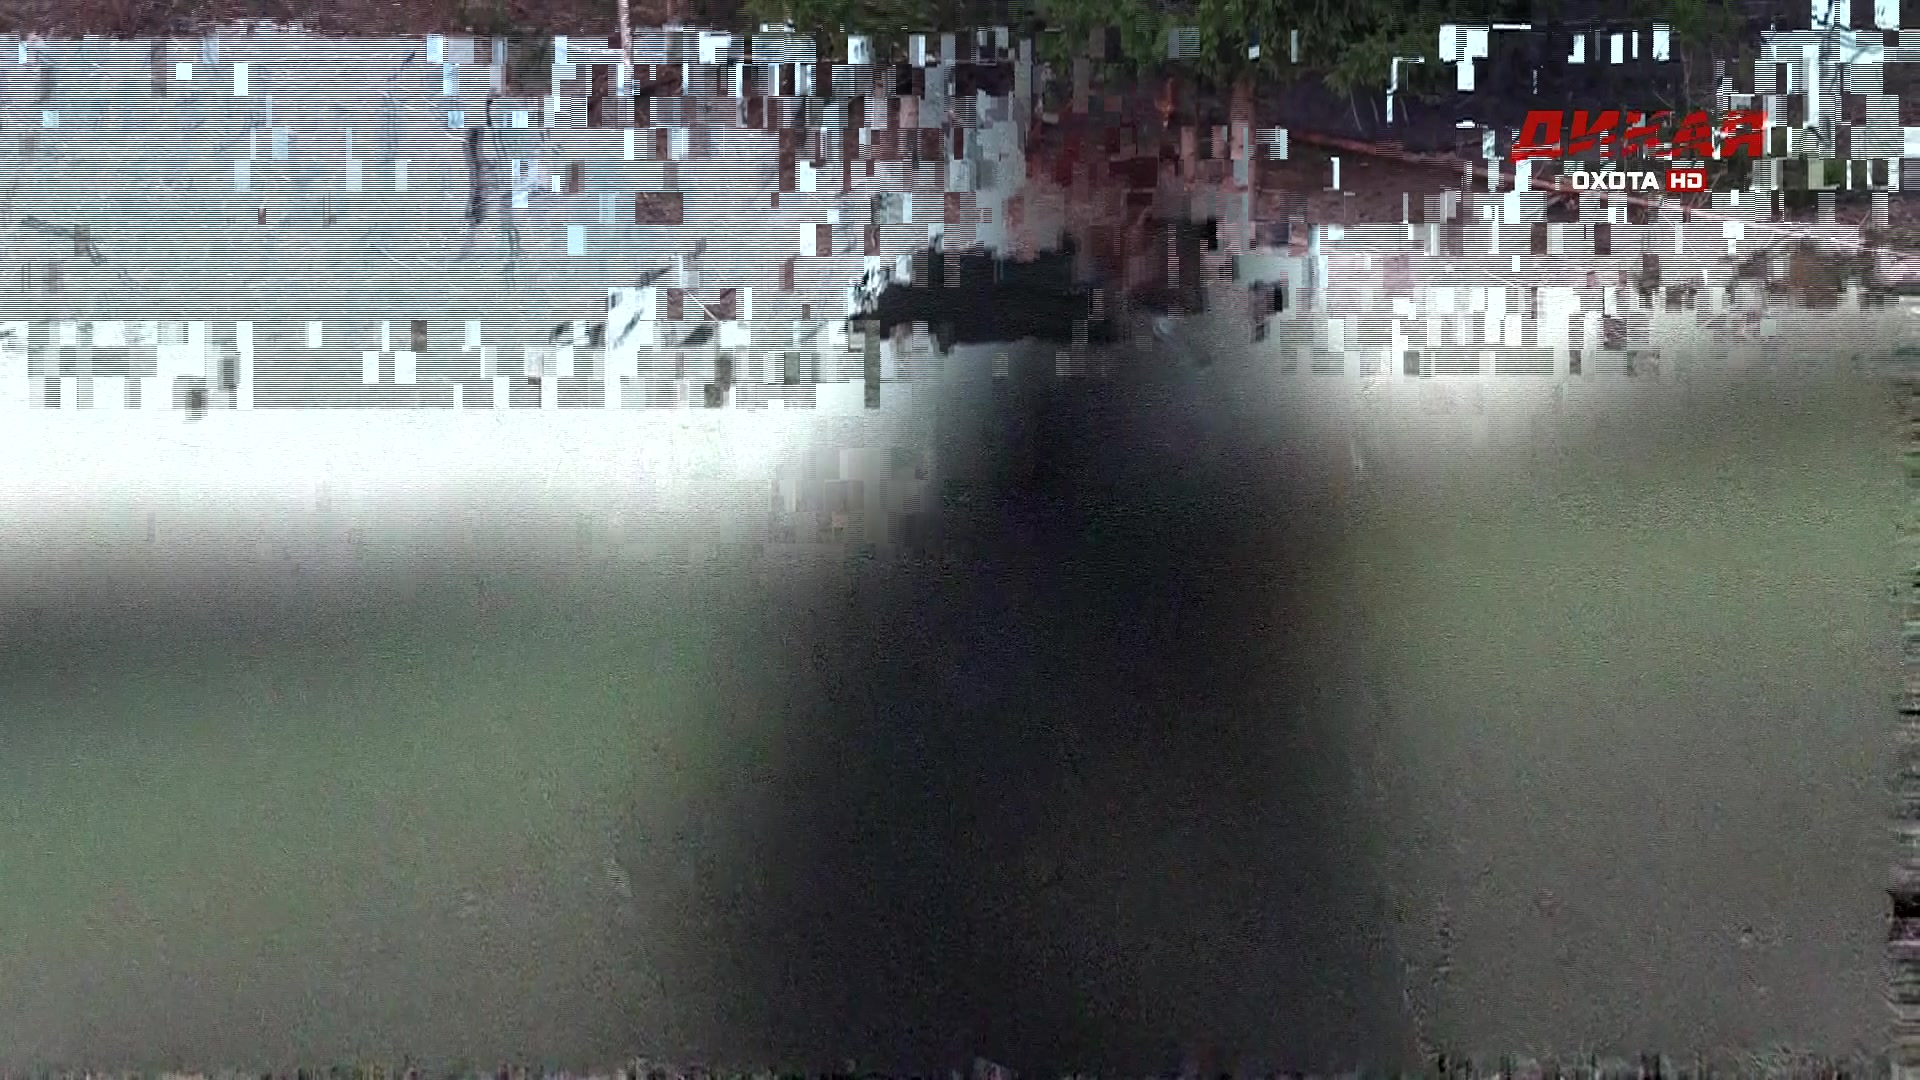Dikaya_Ohota_HD: (1506, 104, 1775, 194)
